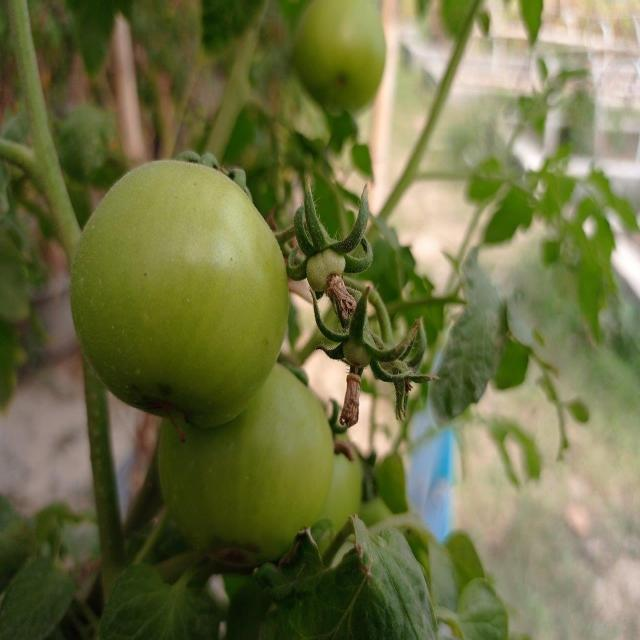Unripe: (68, 157, 287, 428)
